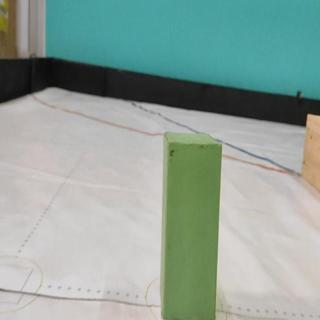greenbox: (161, 132, 226, 320)
